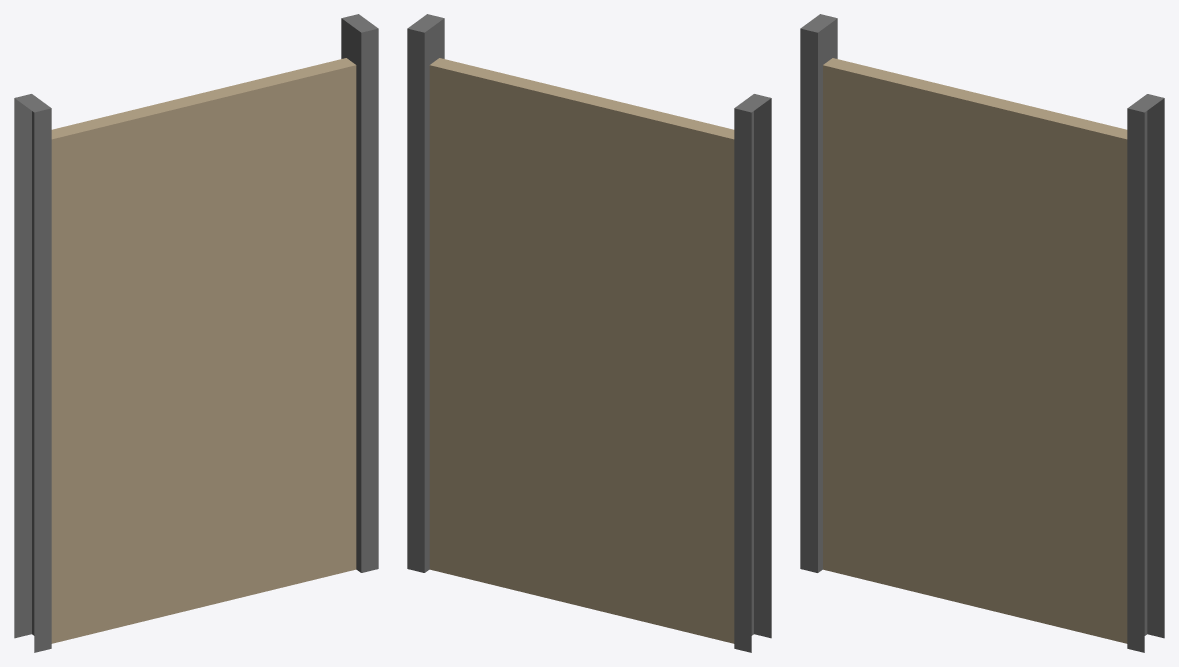
The model's file is SM_Fence_200.fbx.
The picture shows the model from 3 angles, left to right: view 1: azimuth 30°, elevation 25°; view 2: azimuth 150°, elevation 25°; view 3: azimuth 330°, elevation 25°; orthographic projection.
Parts seen in each view (by area): view 1: SM_Fence_200; view 2: SM_Fence_200; view 3: SM_Fence_200.
Boxes of the visible parts, x1,y1,x2,y2 form: SM_Fence_200: (14, 14, 378, 652); SM_Fence_200: (407, 14, 771, 652); SM_Fence_200: (800, 14, 1164, 652).
Bounding box in the file's own units: 200 × 300 × 20.
